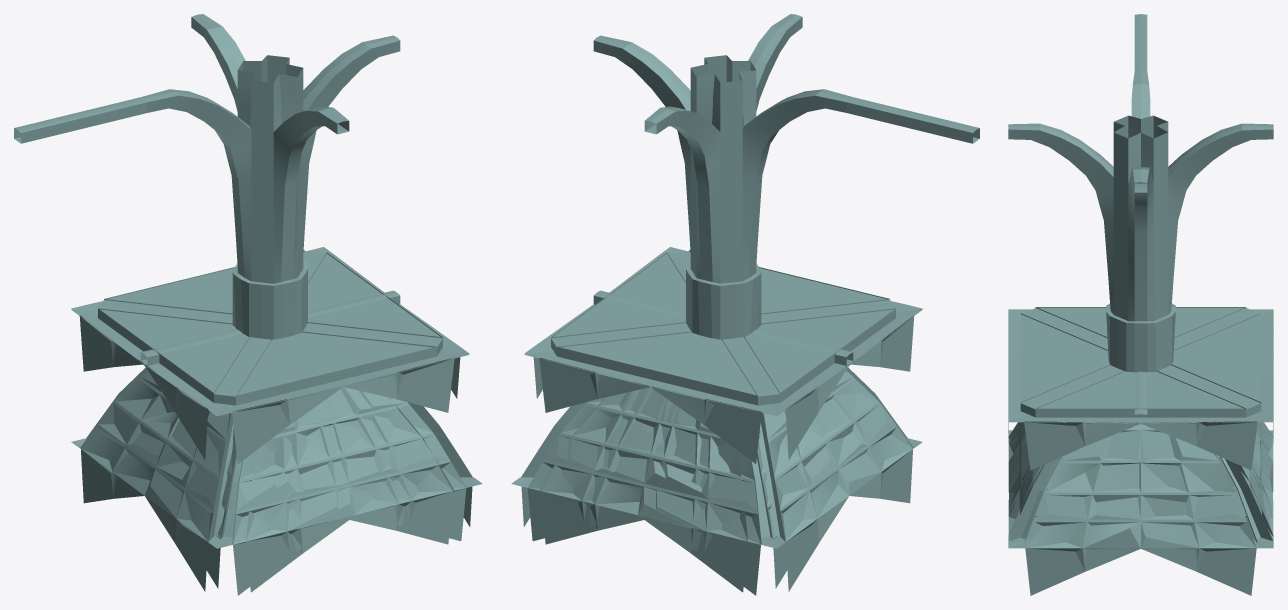
The model's file is ceiling tiles uvs.fbx.
The picture shows the model from 3 angles, left to right: view 1: azimuth 30°, elevation 25°; view 2: azimuth 150°, elevation 25°; view 3: azimuth 270°, elevation 25°; orthographic projection. The views are drawn at different scales.
Visible parts, largest first — view 1: ClosedTop_3Sided, ClosedFlat_4Sided, ClosedTop_4Sided, Arch_Quad, Arch_Tri_AgainstWall, OpenFlat_4Sided, HintTop_4Sided, Arch_FlatTop, Arch_Across, ArchwayBeam, Arch_Tri_NoWall, OpenTop_4Sided; view 2: ClosedTop_3Sided, ClosedFlat_4Sided, ClosedTop_4Sided, OpenFlat_4Sided, Arch_Tri_AgainstWall, Arch_Quad, HintTop_4Sided, Arch_Across, Arch_FlatTop, ArchwayBeam, Arch_Tri_NoWall, OpenTop_3Sided (+1 smaller); view 3: ClosedTop_4Sided, Arch_Quad, ClosedFlat_4Sided, HintTop_4Sided, OpenFlat_4Sided, Arch_Across, ClosedTop_3Sided, Arch_Tri_NoWall, Arch_FlatTop, ArchwayBeam, OpenTop_4Sided.
Boxes of the visible parts, left/top/right/bottom form: ClosedTop_3Sided: left=80, top=370, right=453, bottom=595; ClosedFlat_4Sided: left=71, top=254, right=469, bottom=461; ClosedTop_4Sided: left=84, top=389, right=482, bottom=592; Arch_Quad: left=141, top=14, right=400, bottom=339; Arch_Tri_AgainstWall: left=146, top=70, right=342, bottom=339; OpenFlat_4Sided: left=71, top=247, right=469, bottom=424; HintTop_4Sided: left=99, top=251, right=459, bottom=463; Arch_FlatTop: left=14, top=62, right=272, bottom=283; Arch_Across: left=145, top=35, right=396, bottom=284; ArchwayBeam: left=140, top=290, right=400, bottom=367; Arch_Tri_NoWall: left=148, top=14, right=348, bottom=283; OpenTop_4Sided: left=208, top=413, right=469, bottom=548; ClosedTop_3Sided: left=540, top=370, right=913, bottom=595; ClosedFlat_4Sided: left=524, top=254, right=922, bottom=460; ClosedTop_4Sided: left=511, top=388, right=909, bottom=592; OpenFlat_4Sided: left=524, top=247, right=922, bottom=424; Arch_Tri_AgainstWall: left=705, top=15, right=851, bottom=339; Arch_Quad: left=597, top=14, right=852, bottom=339; HintTop_4Sided: left=533, top=251, right=894, bottom=463; Arch_Across: left=593, top=37, right=846, bottom=285; Arch_FlatTop: left=724, top=62, right=979, bottom=338; ArchwayBeam: left=593, top=290, right=853, bottom=367; Arch_Tri_NoWall: left=644, top=14, right=846, bottom=295; OpenTop_3Sided: left=572, top=397, right=781, bottom=548; ClosedTop_4Sided: left=1008, top=422, right=1273, bottom=595; Arch_Quad: left=1008, top=70, right=1273, bottom=372; ClosedFlat_4Sided: left=1008, top=308, right=1273, bottom=423; HintTop_4Sided: left=1008, top=308, right=1273, bottom=470; OpenFlat_4Sided: left=1008, top=307, right=1273, bottom=445; Arch_Across: left=1111, top=70, right=1170, bottom=333; ClosedTop_3Sided: left=1008, top=422, right=1273, bottom=542; Arch_Tri_NoWall: left=1009, top=77, right=1273, bottom=366; Arch_FlatTop: left=1115, top=14, right=1166, bottom=137; ArchwayBeam: left=1134, top=371, right=1147, bottom=424; OpenTop_4Sided: left=1008, top=422, right=1273, bottom=542.
Size of the model in its own units: 310 by 340 by 200.
